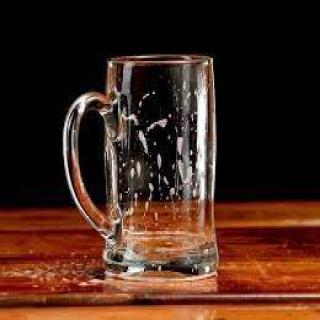GLASS: (63, 46, 232, 288)
